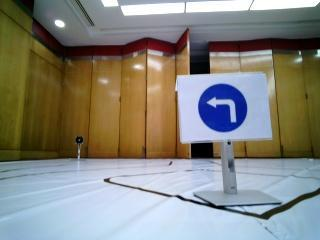left: (183, 77, 267, 138)
